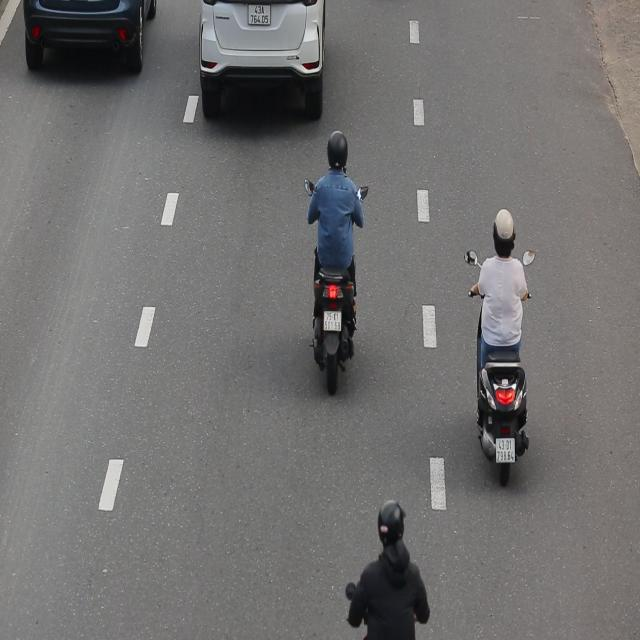motorbike: (463, 206, 541, 492), (304, 126, 372, 396)
